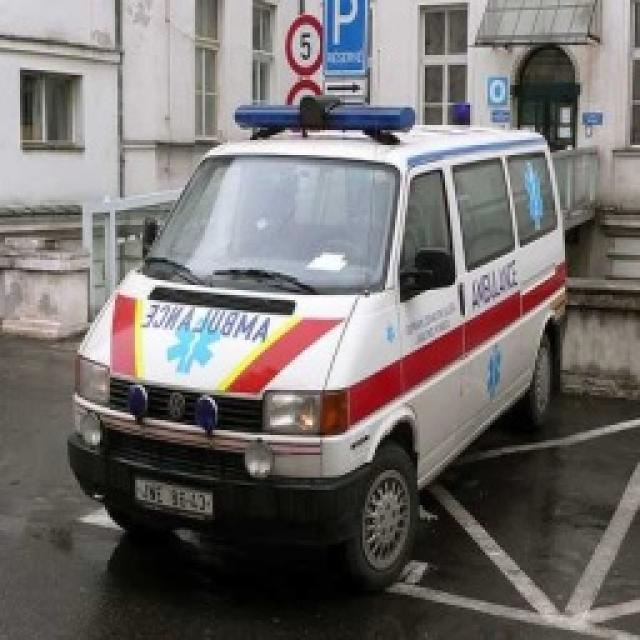emergency-vehicle: (59, 122, 563, 581)
